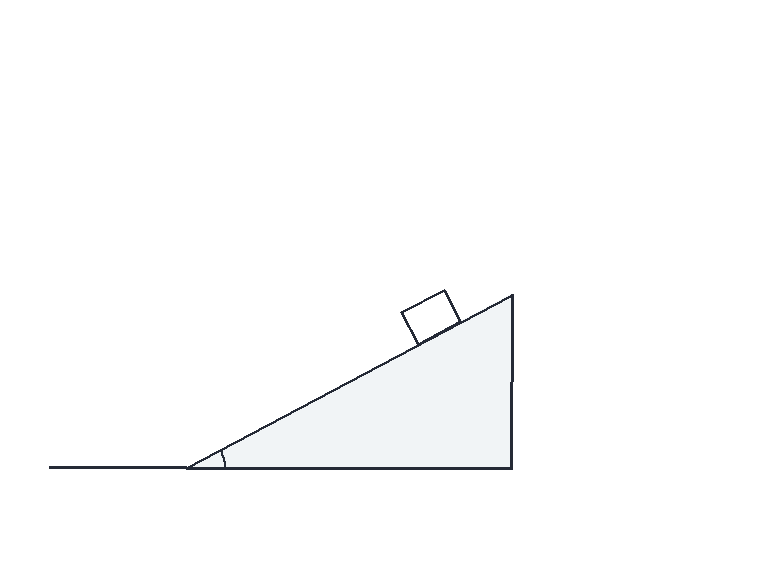block: (399, 288, 463, 346)
ramp: (183, 293, 513, 470)
